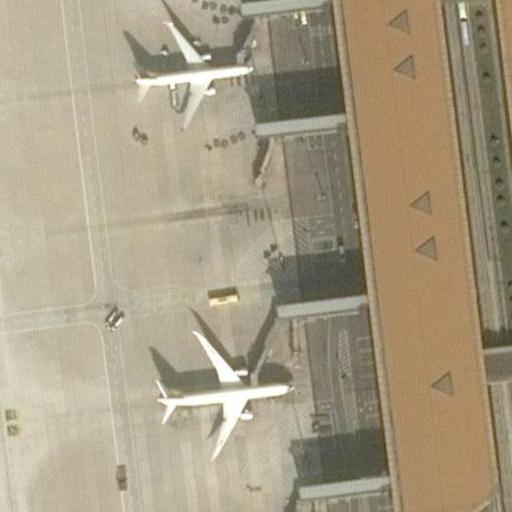Aircraft: (140, 317, 298, 464), (123, 11, 262, 129)
